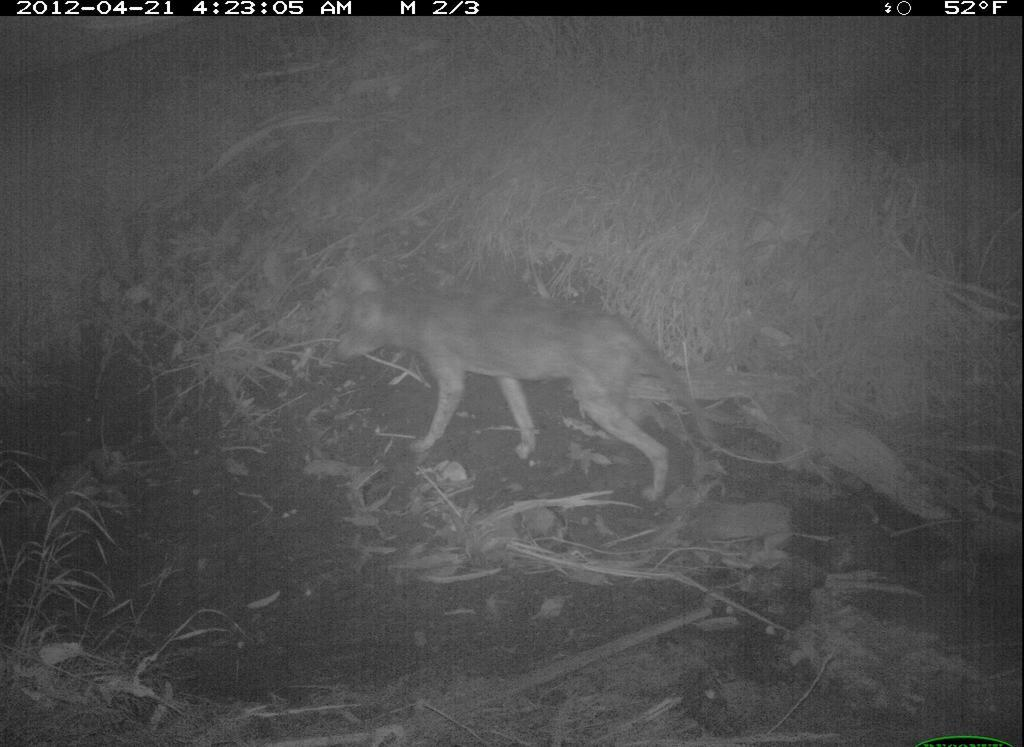coyote: (309, 237, 758, 515)
